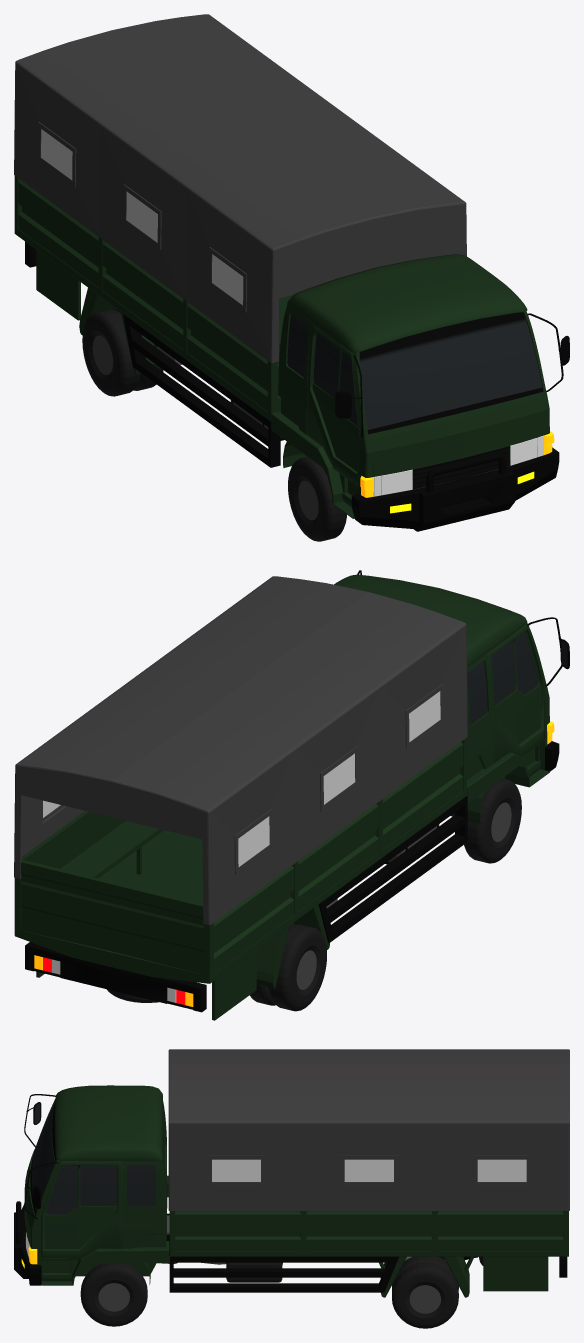
Rendered from Truck (1).fbx.
The picture shows the model from 3 angles, top to bottom: view 1: azimuth 30°, elevation 25°; view 2: azimuth 150°, elevation 25°; view 3: azimuth 270°, elevation 25°; orthographic projection. The views are drawn at different scales.
Parts seen in each view (by area): view 1: Cover, Cube, Body, Windshield, Bumper, WheelSet, Hood, Door, Cover.Front, Cover.Window, Cover.Frame, Door.Glass (+3 smaller); view 2: Cover, Cube, Cube.001, Body, WheelSet, Frame, Door, Cover.Window, Cube.002, Cover.Back, Door.Glass, Cover.Frame (+1 smaller); view 3: Cover, Cube, Body, WheelSet, Door, Cover.Window, Door.Glass, Cover.Frame, Windshield, Body.Glass01, Bumper, Add (+1 smaller).
Part boxes in pixels (x1,y1,x2,y2): Cover: (14,14,466,362); Cube: (14,176,292,467); Body: (271,254,549,518); Windshield: (359,312,543,434); Bumper: (351,447,559,531); WheelSet: (82,308,346,541); Hood: (372,397,543,476); Door: (306,324,359,485); Cover.Front: (279,230,460,298); Cover.Window: (41,129,243,304); Cover.Frame: (37,122,246,312); Door.Glass: (313,333,357,426); Cover: (14,576,467,924); Cube: (14,737,467,1020); Cube.001: (21,860,203,974); Body: (334,574,549,823); WheelSet: (250,778,521,1011); Frame: (25,942,206,1012); Door: (487,625,544,763); Cover.Window: (43,691,440,866); Cube.002: (60,821,163,878); Cover.Back: (21,783,202,839); Door.Glass: (491,631,538,705); Cover.Frame: (43,683,443,874); Cover: (168,1049,569,1210); Cube: (169,1211,568,1297); Body: (24,1085,169,1285); WheelSet: (80,1256,458,1328); Door: (41,1161,122,1258); Cover.Window: (212,1159,526,1181); Door.Glass: (46,1165,117,1214); Cover.Frame: (207,1155,530,1185); Windshield: (30,1103,56,1214); Body.Glass01: (127,1164,155,1206); Bumper: (14,1201,41,1285); Add: (226,1262,282,1282).
Bounding box in the file's own units: 275 × 304 × 726.
